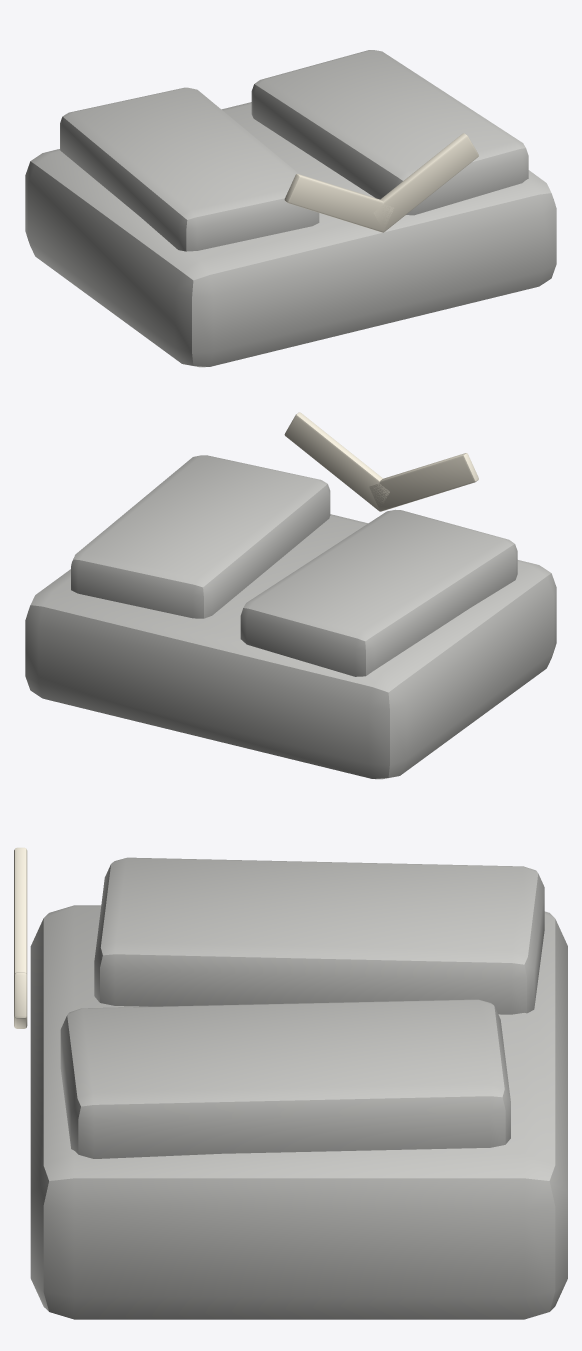
The model's file is checkout_product_folded_polo.glb.
3 renders of one model, top to bottom at view 1: azimuth 30°, elevation 25°; view 2: azimuth 150°, elevation 25°; view 3: azimuth 270°, elevation 25°, orthographic. The views are drawn at different scales.
Parts seen in each view (by area): view 1: FoldedBody, FoldedSleeveLeft, FoldedSleeveRight, FoldedCollarRight, FoldedCollarLeft; view 2: FoldedBody, FoldedSleeveLeft, FoldedSleeveRight, FoldedCollarRight, FoldedCollarLeft; view 3: FoldedBody, FoldedSleeveRight, FoldedSleeveLeft, FoldedCollarLeft, FoldedCollarRight.
Boxes of the visible parts, x1,y1,x2,y2 form: FoldedBody: [25, 102, 556, 367]; FoldedSleeveLeft: [60, 87, 319, 251]; FoldedSleeveRight: [251, 50, 528, 215]; FoldedCollarRight: [373, 133, 478, 232]; FoldedCollarLeft: [284, 174, 393, 232]; FoldedBody: [25, 514, 556, 779]; FoldedSleeveLeft: [240, 509, 517, 676]; FoldedSleeveRight: [71, 455, 330, 618]; FoldedCollarRight: [284, 412, 389, 511]; FoldedCollarLeft: [369, 453, 478, 511]; FoldedBody: [30, 905, 567, 1319]; FoldedSleeveRight: [60, 999, 510, 1158]; FoldedSleeveLeft: [94, 857, 544, 1014]; FoldedCollarLeft: [14, 847, 27, 974]; FoldedCollarRight: [14, 972, 27, 1028].
Size of the model in its own units: 0.2 by 0.0934 by 0.165.
